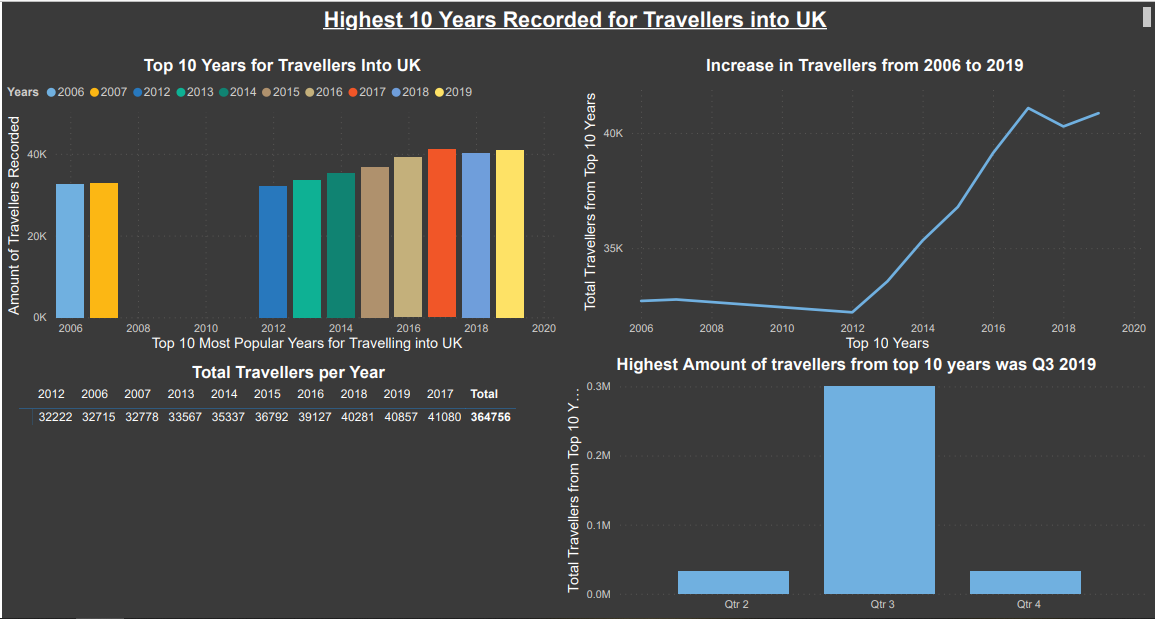

Layout of this report page (visuals, bound fields, positions):
{"tool":"powerbi","page":{"name":"Highest","canvas":[1280,720],"ordinal":0},"visuals":[{"type":"columnChart","title":"Top 10 Years for Travellers Into UK","fields":{"Category":["NSA Data - Top 10.OS Visits Dates (Year)"],"Series":["NSA Data - Top 10.OS Visits Dates (Year)"],"Y":["Sum(NSA Data - Top 10.Yearly Total - OS Visits to UK)"]},"box":[0,80.6,621.5,332.6],"z":0},{"type":"pivotTable","title":"Total Travellers per Year","fields":{"Values":["Sum(NSA Data - Top 10.Yearly Total - OS Visits to UK)"],"Columns":["NSA Data - Top 10.OS Visits Dates (Year)"]},"box":[13.4,421.6,608.1,82.3],"z":1000},{"type":"lineChart","title":"Increase in Travellers from 2006 to 2019","fields":{"Y":["Sum(NSA Data - Top 10.Yearly Total - OS Visits to UK)"],"Category":["NSA Data - Top 10.OS Visits Dates (Year)"]},"box":[640,80.6,635,332.6],"z":2000},{"type":"columnChart","title":"Highest Amount of travellers from top 10 years was Q3 2019","fields":{"Category":["NSA Data - Top 10.OS Visit Dates (Month).Variation.Date Hierarchy.Year","NSA Data - Top 10.OS Visit Dates (Month).Variation.Date Hierarchy.Quarter","NSA Data - Top 10.OS Visit Dates (Month).Variation.Date Hierarchy.Month","NSA Data - Top 10.OS Visit Dates (Month).Variation.Date Hierarchy.Day"],"Y":["Sum(NSA Data - Top 10.Yearly Total - OS Visits to UK)"]},"box":[621.5,413.2,653.4,307.4],"z":3000},{"type":"textbox","box":[0,21.8,1280,35.3],"z":3001}]}

Visuals, with their boxes on the page's 1280x720 design canvas (x1, y1, x2, y2). These are canvas units, not pixel positions in the 1155x619 screenshot, which may show the page scaled, cropped or inside an application window:
"Top 10 Years for Travellers Into UK" columnChart: 0,81,622,413
"Total Travellers per Year" pivotTable: 13,422,622,504
"Increase in Travellers from 2006 to 2019" lineChart: 640,81,1275,413
"Highest Amount of travellers from top 10 years was Q3 2019" columnChart: 622,413,1275,721
textbox: 0,22,1280,57
